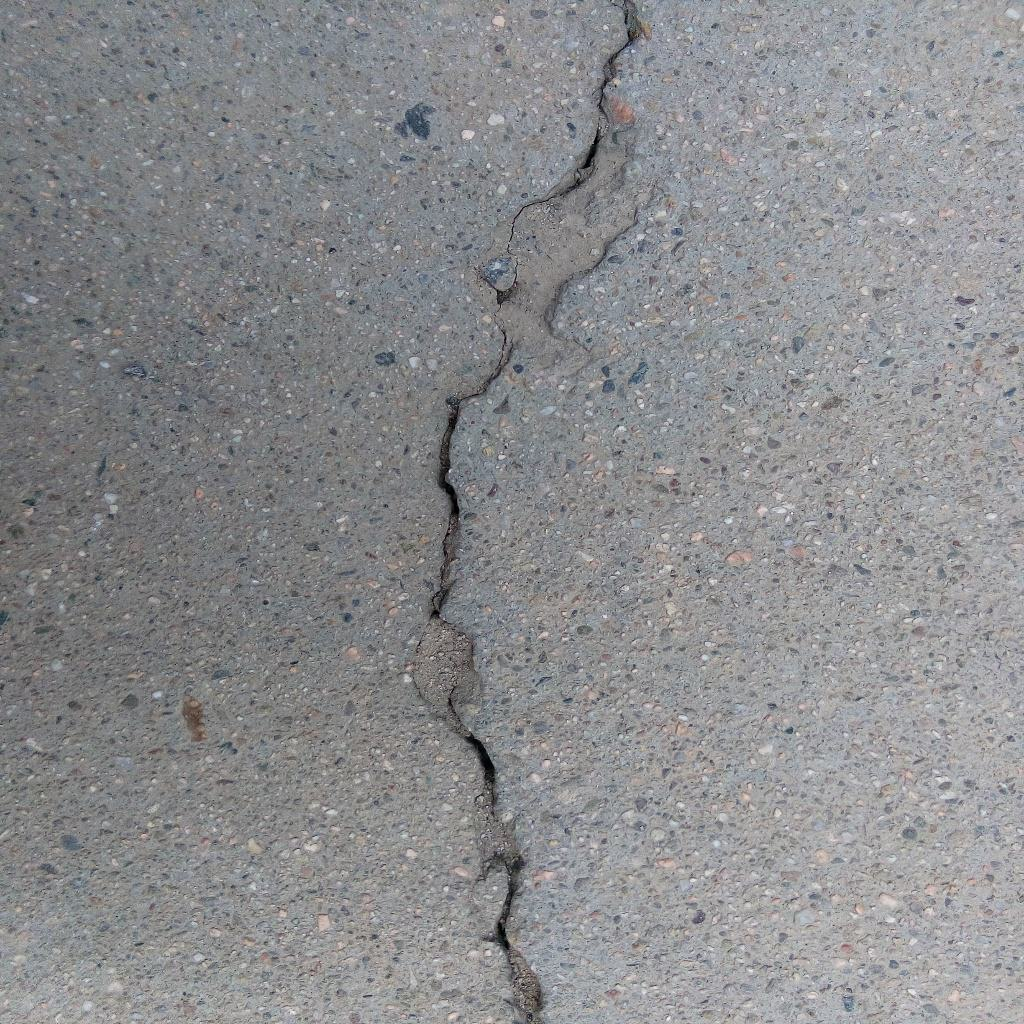Crack: (427, 1, 645, 1024)
